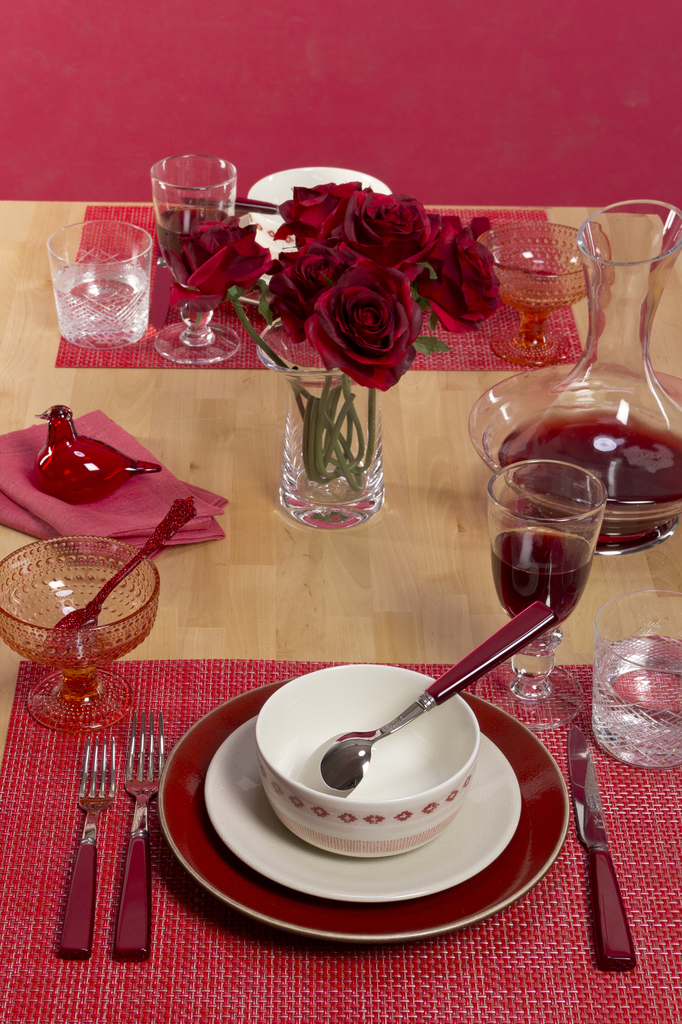plate: (148, 664, 578, 958)
